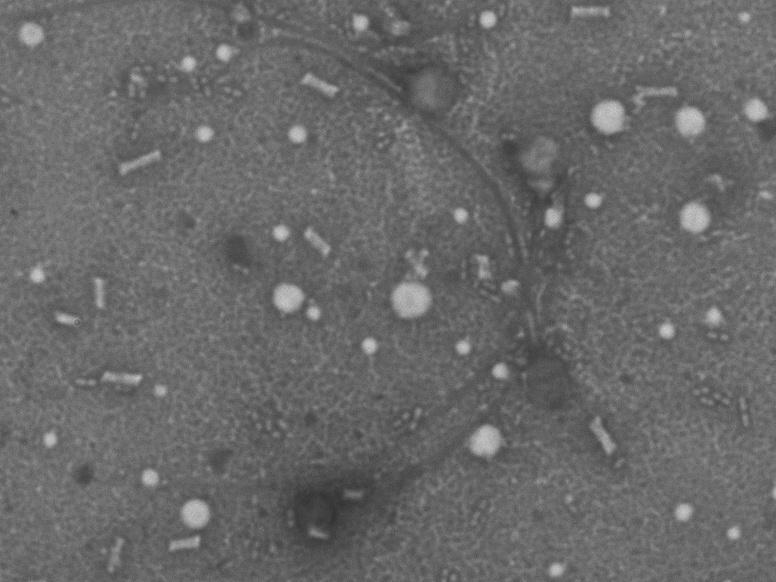Abnormal: (187, 12, 602, 426)
